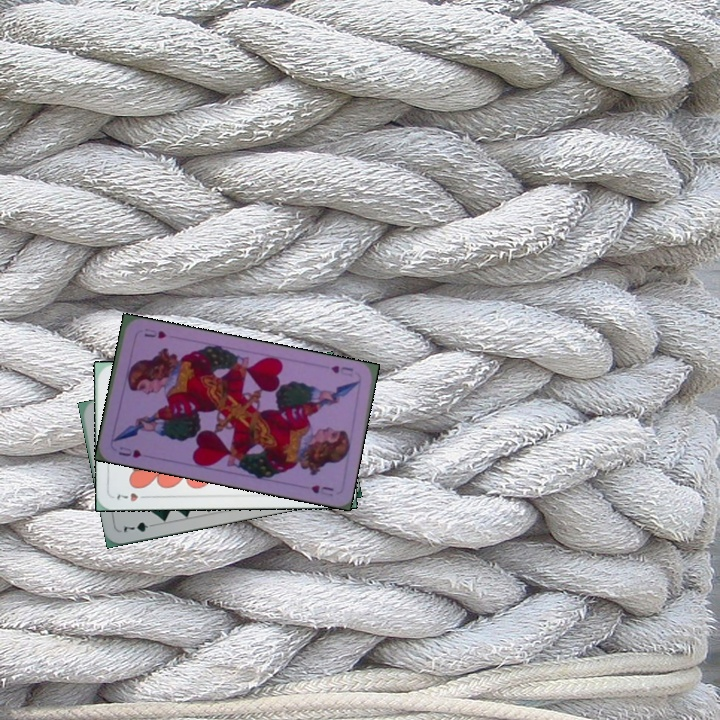G7: (118, 518, 159, 535)
H7: (113, 489, 151, 505)
HU: (114, 442, 144, 461), (327, 361, 356, 379)
